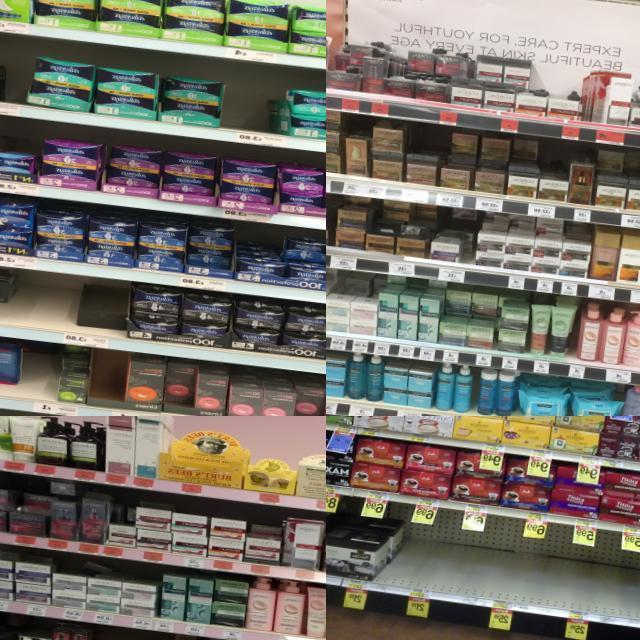Imprecise: (442, 130, 542, 198), (480, 210, 560, 270), (432, 288, 502, 348), (325, 268, 381, 337), (367, 198, 435, 254), (593, 138, 624, 212), (11, 487, 54, 536), (440, 206, 474, 265), (241, 522, 281, 566), (160, 360, 193, 412)
